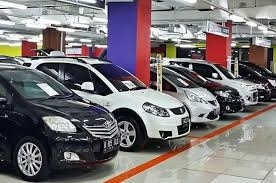plate: (104, 140, 119, 150)
